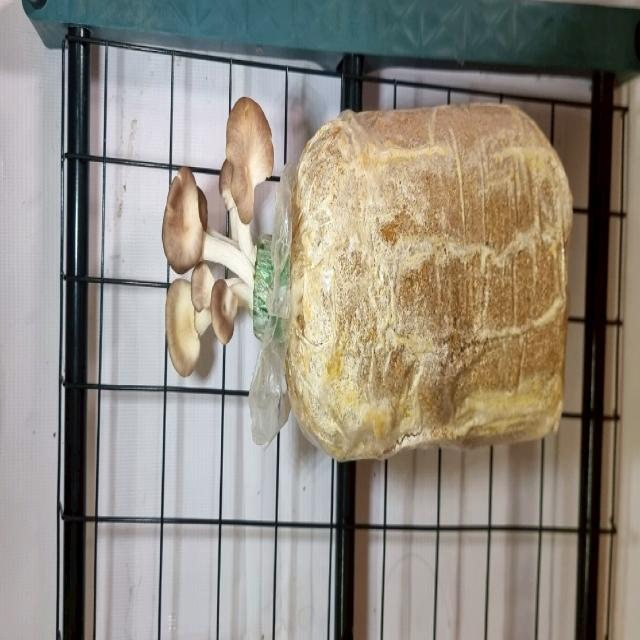normal: (158, 90, 271, 384)
